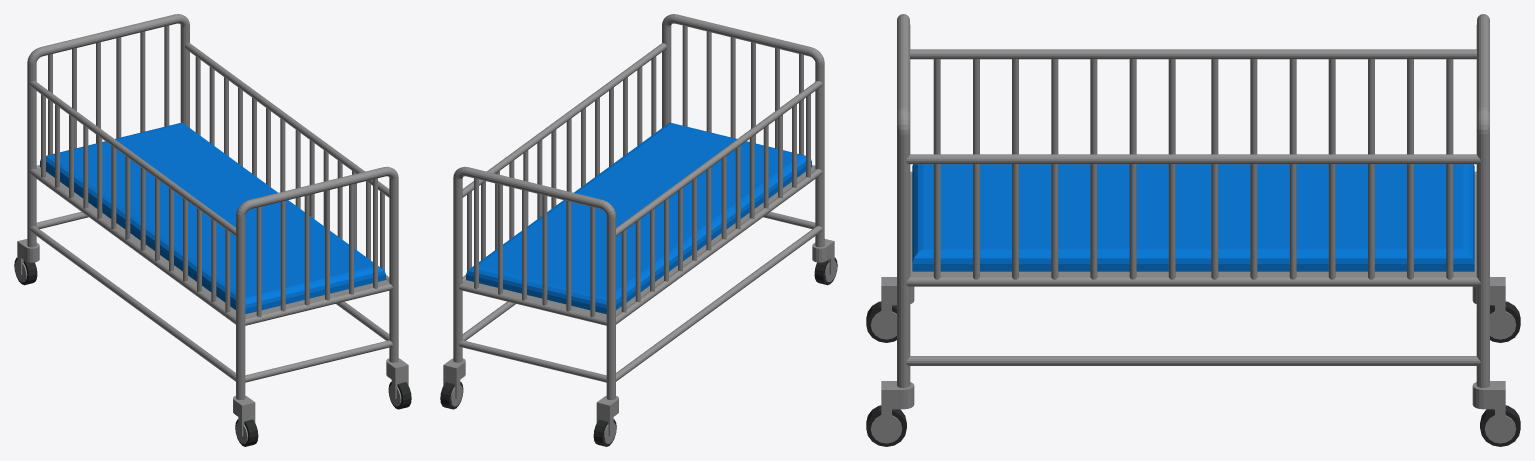
3 views of the same model, side by side, from view 1: azimuth 30°, elevation 25°; view 2: azimuth 150°, elevation 25°; view 3: azimuth 270°, elevation 25° (orthographic). The views are drawn at different scales.
Parts seen in each view (by area): view 1: CC-3; view 2: CC-3; view 3: CC-3.
Part boxes in pixels (x1,y1,x2,y2): CC-3: (14, 14, 411, 446); CC-3: (440, 14, 837, 446); CC-3: (866, 14, 1520, 446).
Size of the model in its own units: 59.47 by 81.11 by 146.
